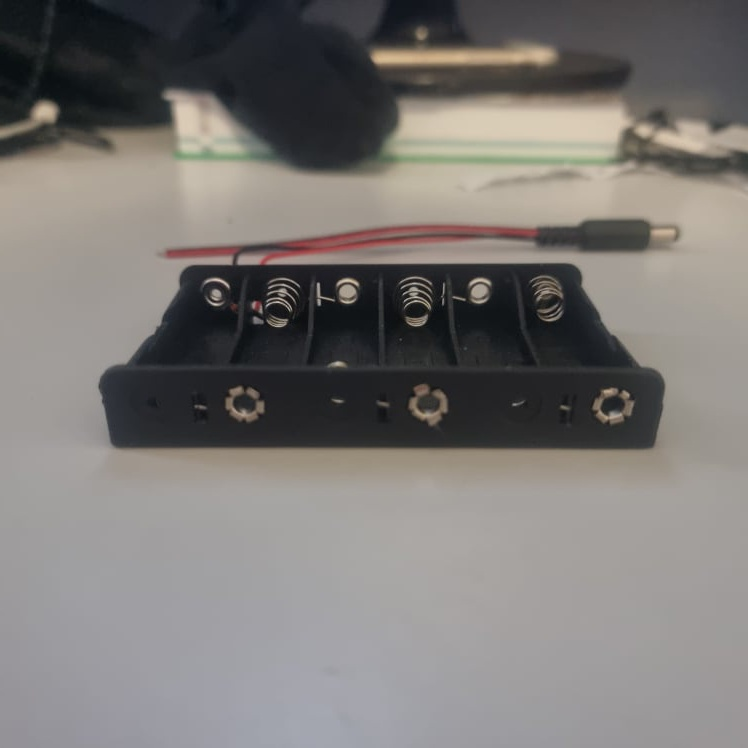BATTERY BOX: (99, 264, 667, 450)
